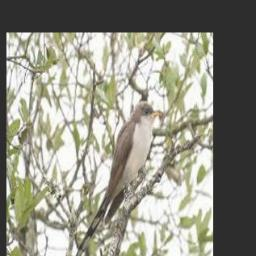Cuckoo: (74, 100, 160, 256)
